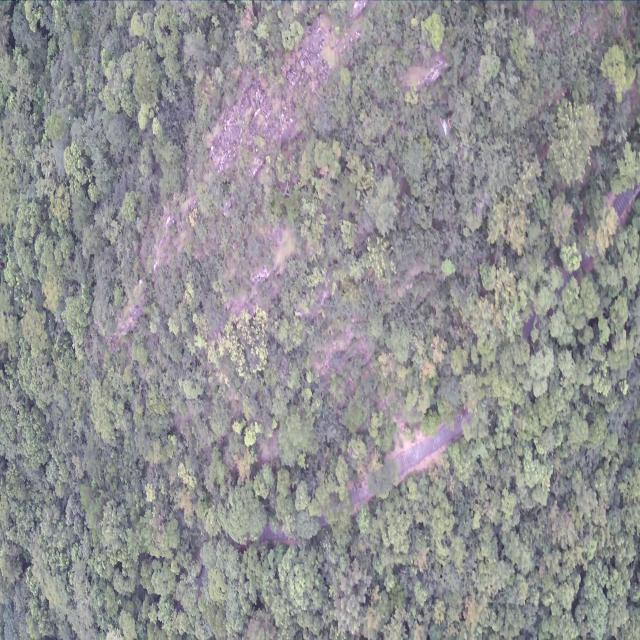drone: (438, 117, 451, 138)
